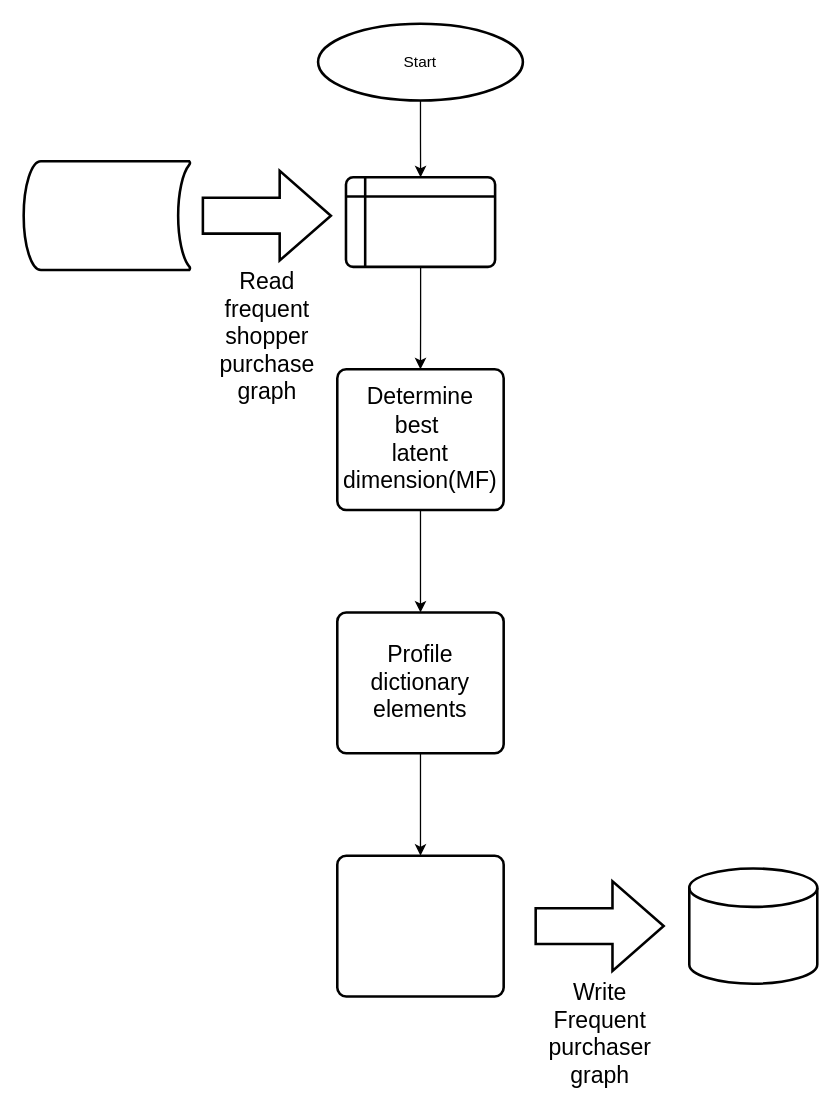
This 840x1111 diagram has some shape labels left out. The box of each missing label's shape, as (x1, y1, x2, y2) in pixels:
ArangoDB: (687, 867, 818, 984)
Create frequent purchaser graph: (335, 854, 504, 997)
Frequent Purcahse Data File: (22, 159, 191, 271)
